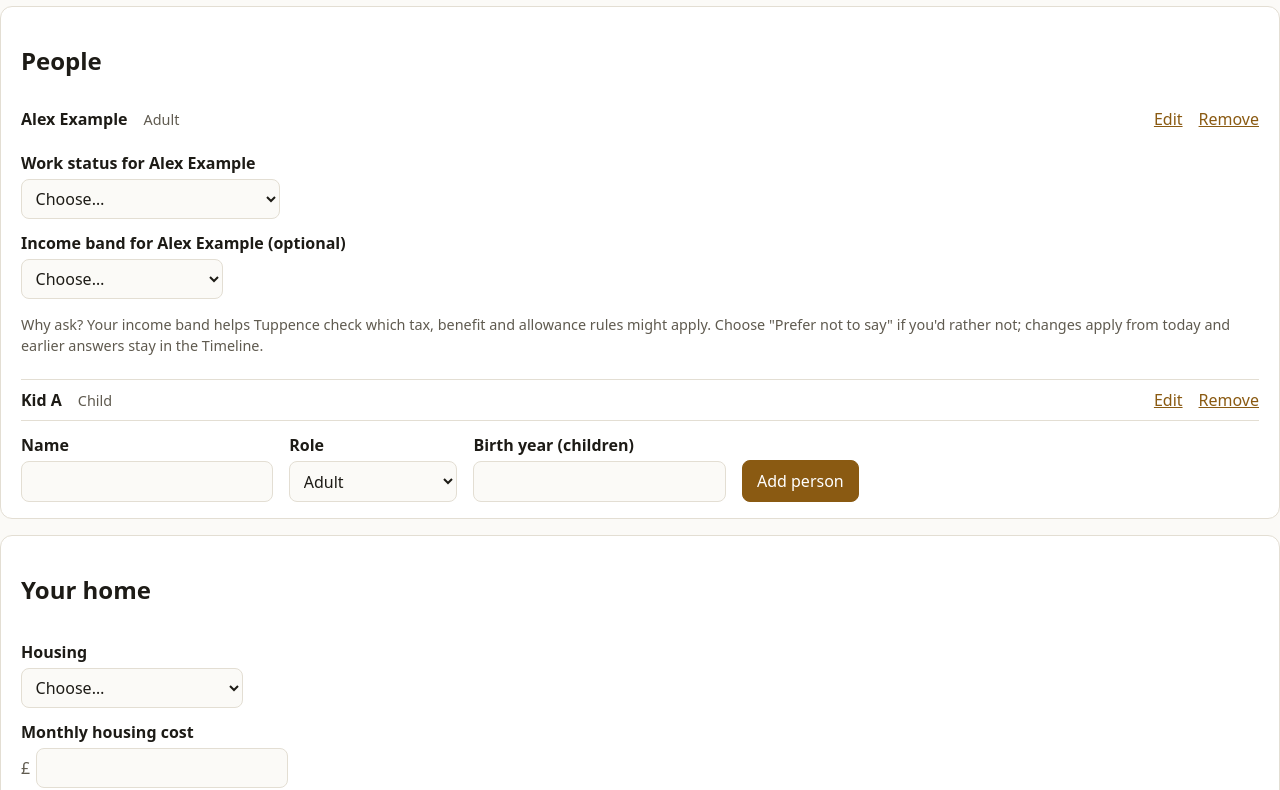
editing people › adds a child's birth year through Edit (PATCH with the version)
(page scrolled)
Click the button with aria-label "Edit Kid A": (1168, 400) 1154,388 -> 1182,412
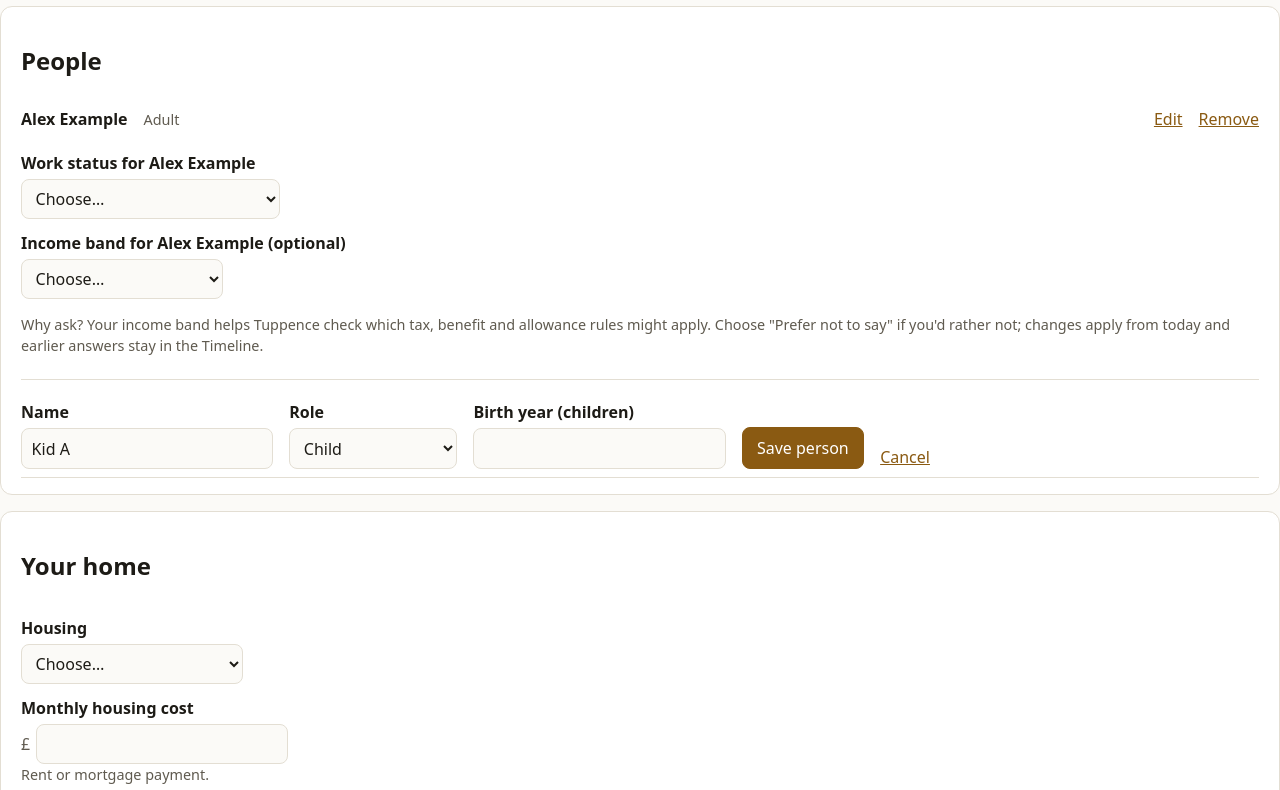
expect the button "Add person" is gone: met
expect the field labelled "Name" holds "Kid A": met, box 21,428 -> 273,469
In the field labelled "Birth year (children)": (600, 448) 473,428 -> 726,469, type "2019"
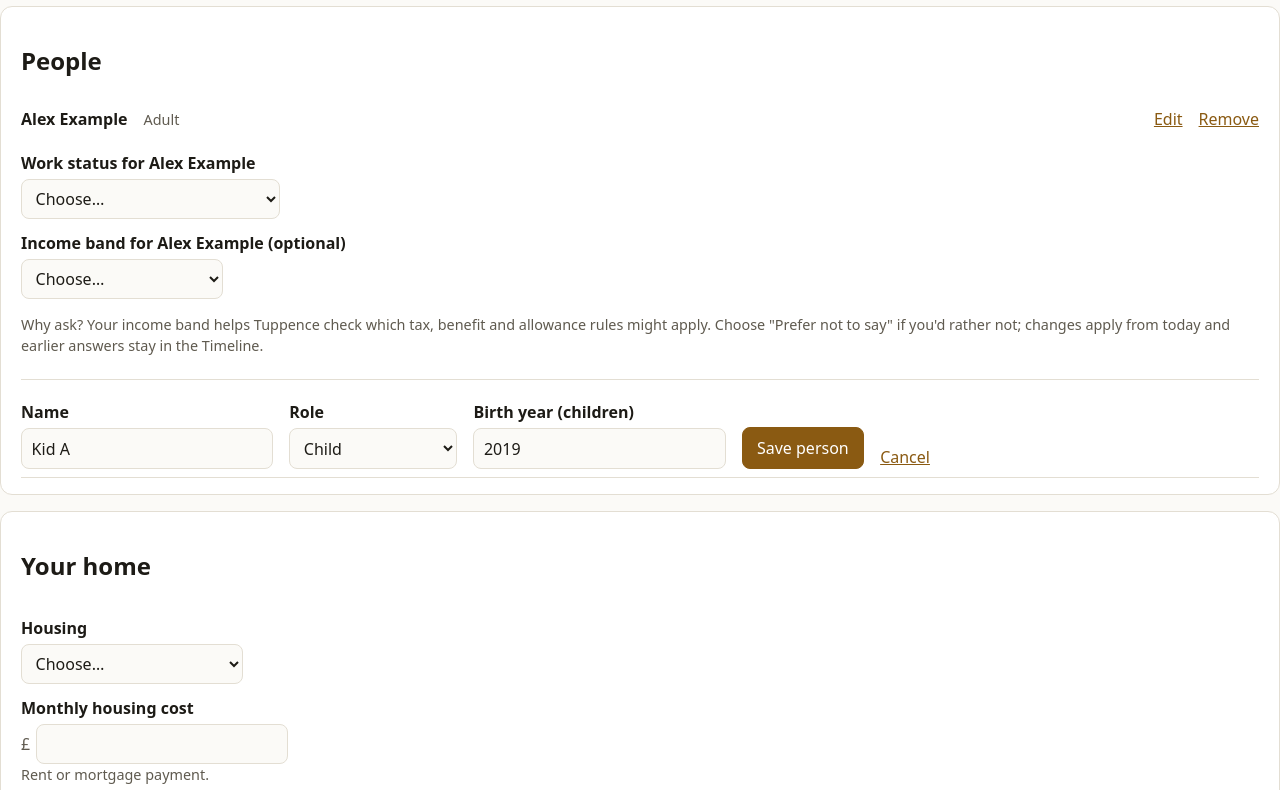
Click the button "Save person": (803, 448) 742,427 -> 864,469
(page scrolled)
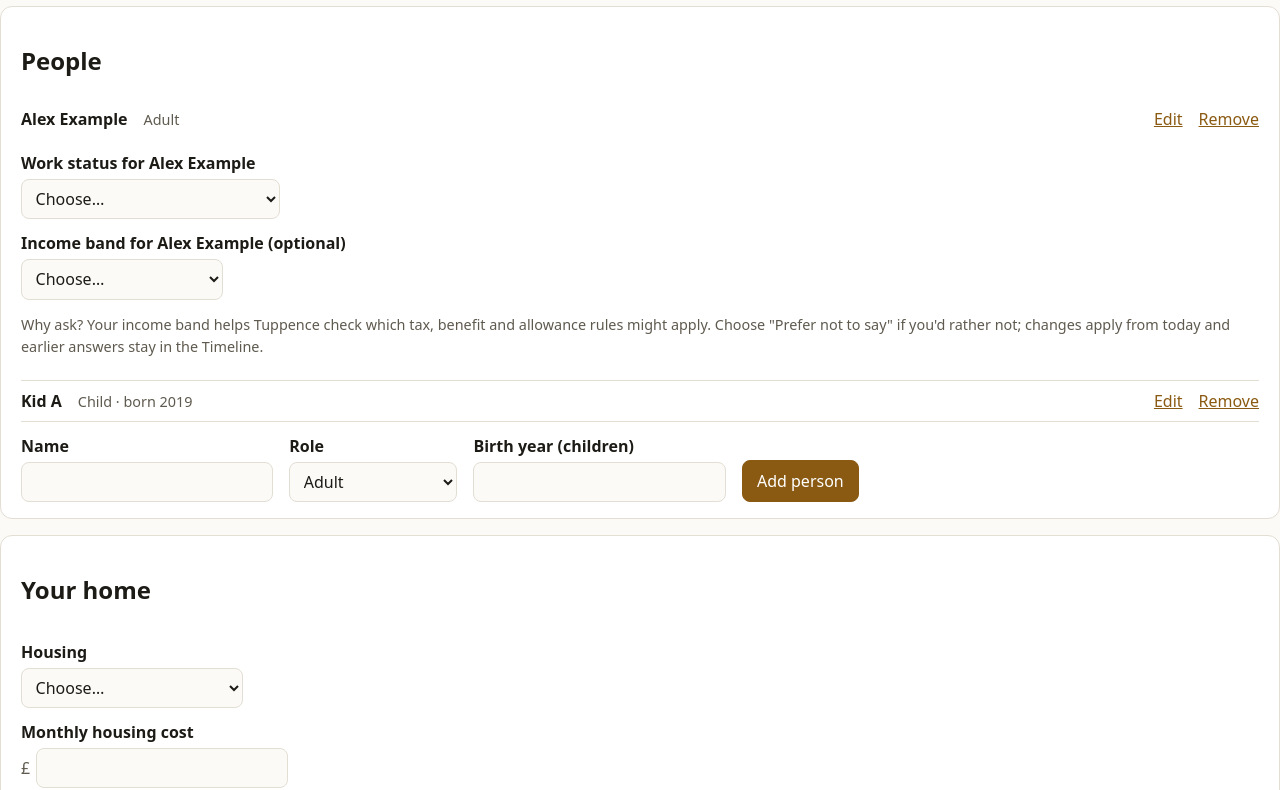
expect the text "Child · born 2019" is shown: met, box 78,390 -> 192,412
